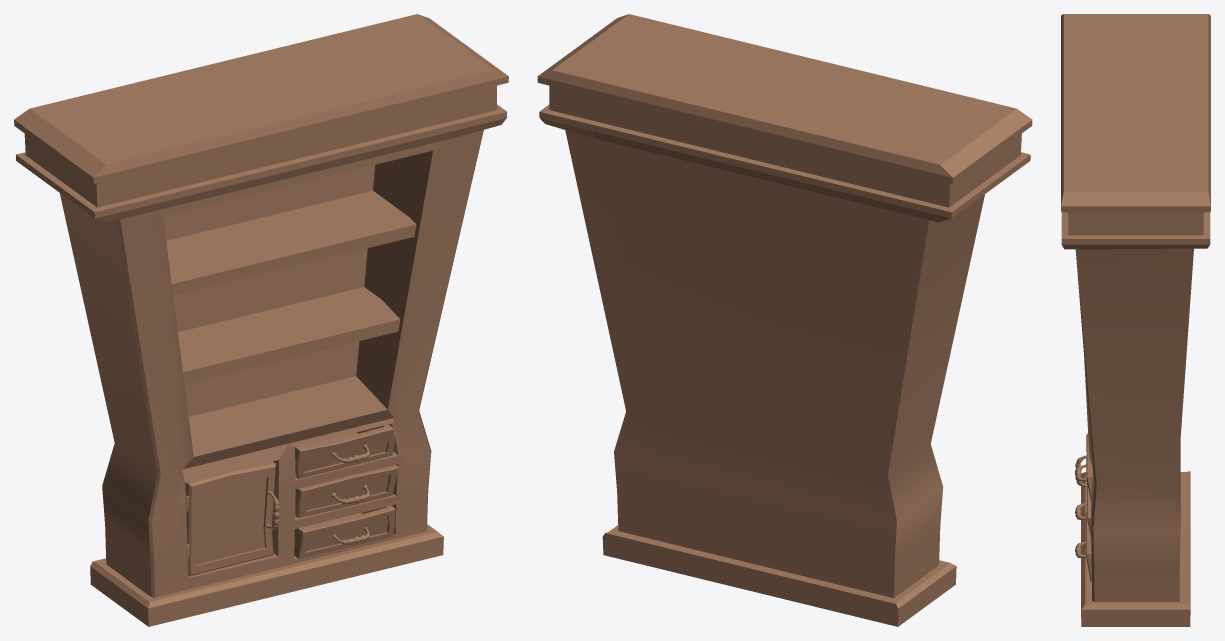
File: Sm_Armoire_02.fbx
3 views of the same model, side by side, from view 1: azimuth 30°, elevation 25°; view 2: azimuth 150°, elevation 25°; view 3: azimuth 270°, elevation 25° (orthographic). The views are drawn at different scales.
Visible parts, largest first — view 1: SM_Armoire_02, SM_Porte_Armoire_02, SM_Tiroir_01_Armoire_02, SM_Tiroir_03_Armoire_02, SM_Tiroir_02_Armoire_02; view 2: SM_Armoire_02; view 3: SM_Armoire_02, SM_Tiroir_03_Armoire_02, SM_Tiroir_01_Armoire_02, SM_Tiroir_02_Armoire_02.
Boxes of the visible parts, left/top/right/bottom form: SM_Armoire_02: left=14, top=14, right=508, bottom=626; SM_Porte_Armoire_02: left=185, top=461, right=279, bottom=576; SM_Tiroir_01_Armoire_02: left=295, top=424, right=394, bottom=478; SM_Tiroir_03_Armoire_02: left=294, top=505, right=395, bottom=558; SM_Tiroir_02_Armoire_02: left=295, top=465, right=398, bottom=517; SM_Armoire_02: left=537, top=14, right=1032, bottom=626; SM_Armoire_02: left=1061, top=14, right=1210, bottom=626; SM_Tiroir_03_Armoire_02: left=1075, top=512, right=1091, bottom=581; SM_Tiroir_01_Armoire_02: left=1075, top=433, right=1092, bottom=500; SM_Tiroir_02_Armoire_02: left=1075, top=481, right=1091, bottom=537.
Bounding box in the file's own units: 2.82 × 3.13 × 0.9359.
